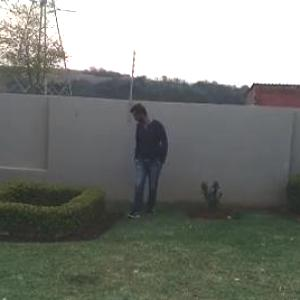follow: (130, 93, 171, 231)
